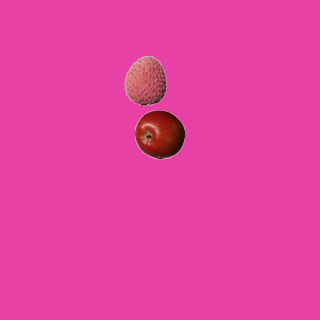Apple Braeburn: (134, 109, 184, 159)
Lychee: (120, 55, 170, 105)
